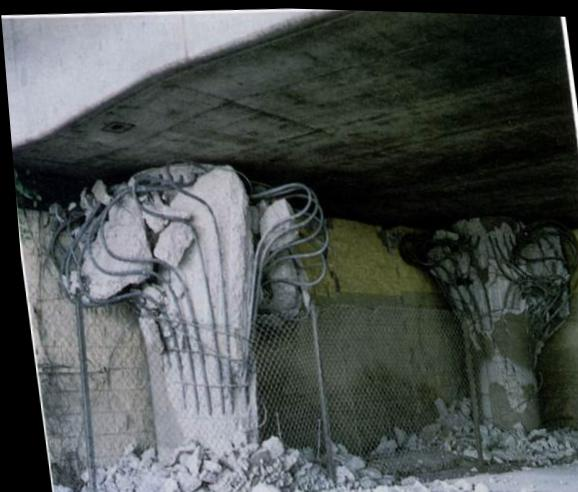damage: (47, 164, 329, 463), (418, 216, 578, 359)
